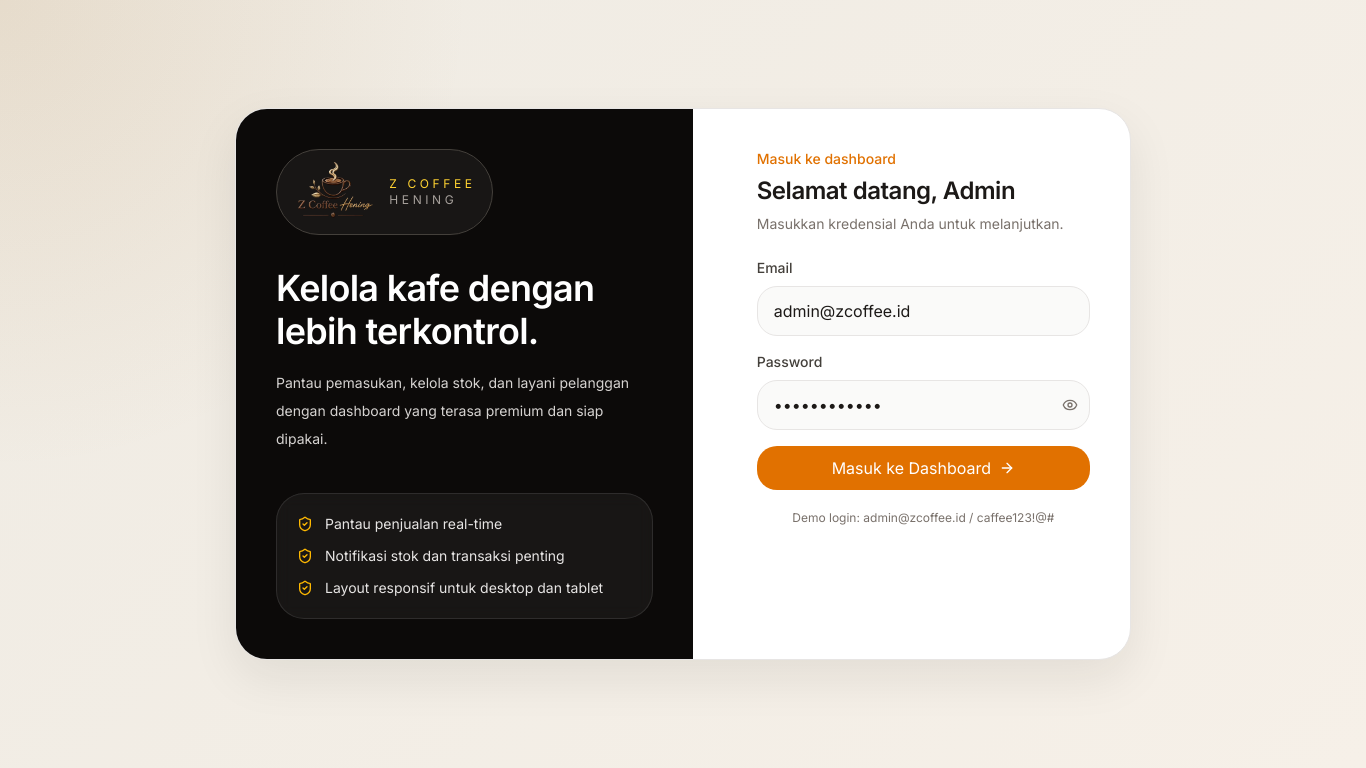
Test: Login Page › toggles password visibility
The width and height of the screenshot is (1366, 768).
Click the button named "Toggle password": point(1070, 405) x1=1062 y1=397 x2=1078 y2=413
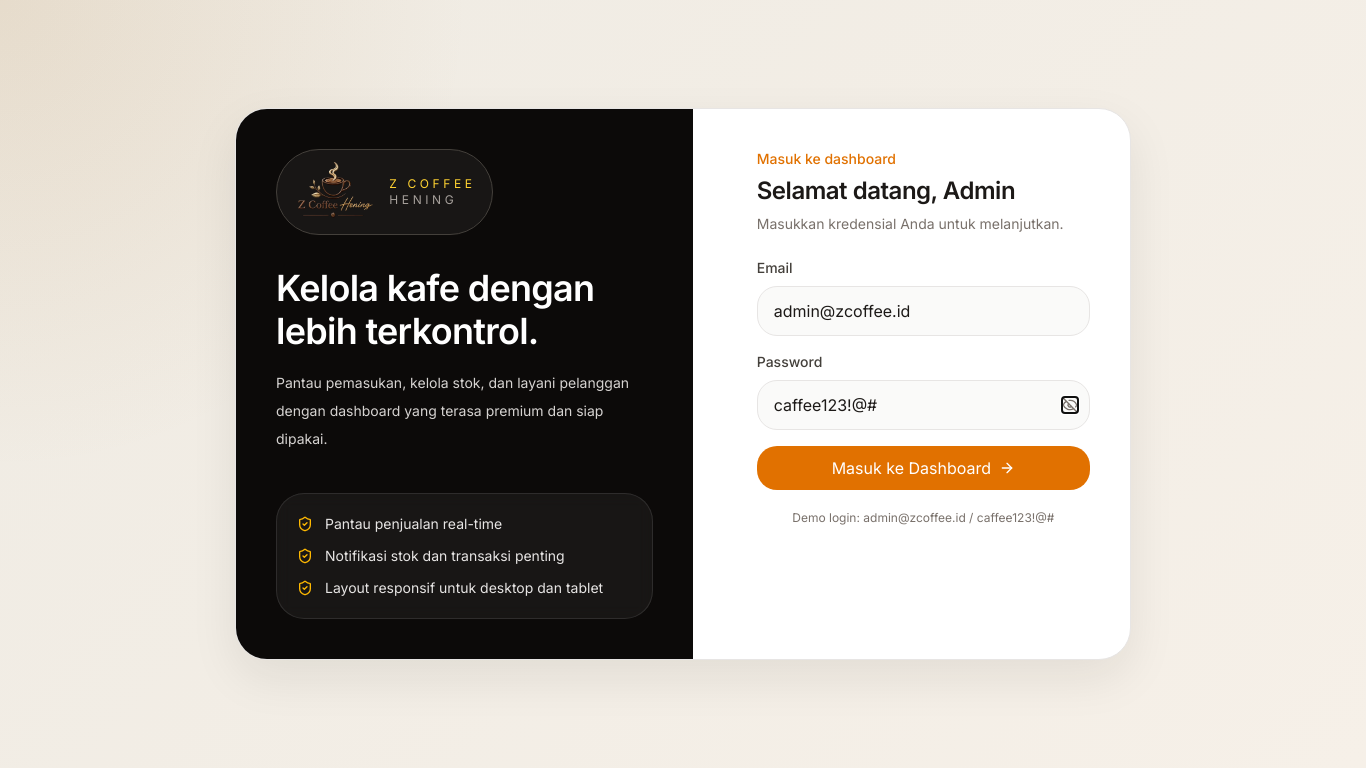
expect the field named "Password" shows its text: met, box x1=757 y1=380 x2=1090 y2=430
